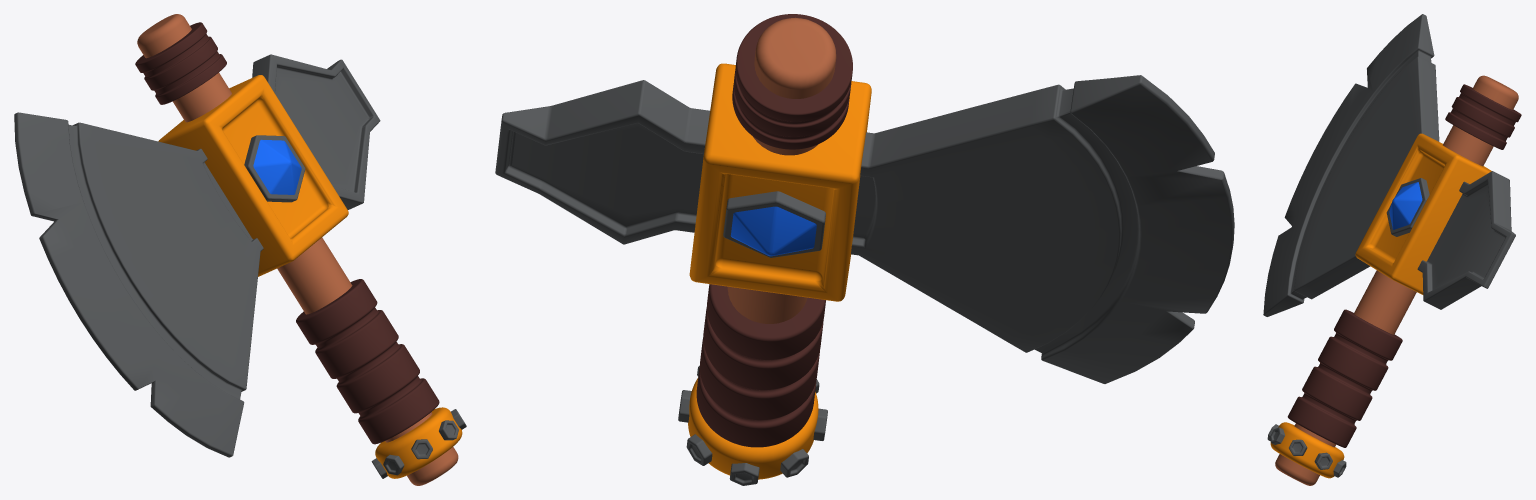
Rendered from axe.glb.
3 renders of one model, left to right at view 1: azimuth 30°, elevation 25°; view 2: azimuth 150°, elevation 25°; view 3: azimuth 270°, elevation 25°, orthographic. The views are drawn at different scales.
Parts seen in each view (by area): view 1: Plane, Cube, Cylinder.002, Cylinder, Cylinder.001, Circle, Cylinder.003, Circle.001; view 2: Plane, Cube, Cylinder.002, Cylinder.001, Cylinder, Circle, Cylinder.003, Circle.001; view 3: Plane, Cube, Cylinder.002, Cylinder, Cylinder.001, Circle, Cylinder.003, Circle.001.
Boxes of the visible parts, x1,y1,x2,y2 form: Plane: (14, 54, 380, 457); Cube: (158, 75, 348, 276); Cylinder.002: (296, 279, 439, 444); Cylinder: (137, 14, 458, 485); Cylinder.001: (135, 22, 226, 104); Circle: (244, 135, 305, 202); Cylinder.003: (375, 407, 462, 478); Circle.001: (371, 409, 466, 478); Plane: (495, 75, 1234, 383); Cube: (689, 63, 871, 301); Cylinder.002: (696, 284, 825, 447); Cylinder.001: (732, 14, 852, 149); Cylinder: (727, 17, 836, 323); Circle: (723, 191, 825, 257); Cylinder.003: (688, 377, 818, 479); Circle.001: (678, 365, 827, 485); Plane: (1263, 14, 1515, 316); Cube: (1355, 133, 1491, 294); Cylinder.002: (1287, 309, 1402, 447); Cylinder: (1275, 75, 1518, 485); Cylinder.001: (1445, 84, 1521, 149); Circle: (1386, 178, 1429, 236); Cylinder.003: (1270, 422, 1344, 478); Circle.001: (1267, 424, 1346, 477).
Size of the model in its own units: 6.72 by 6.44 by 4.32.
